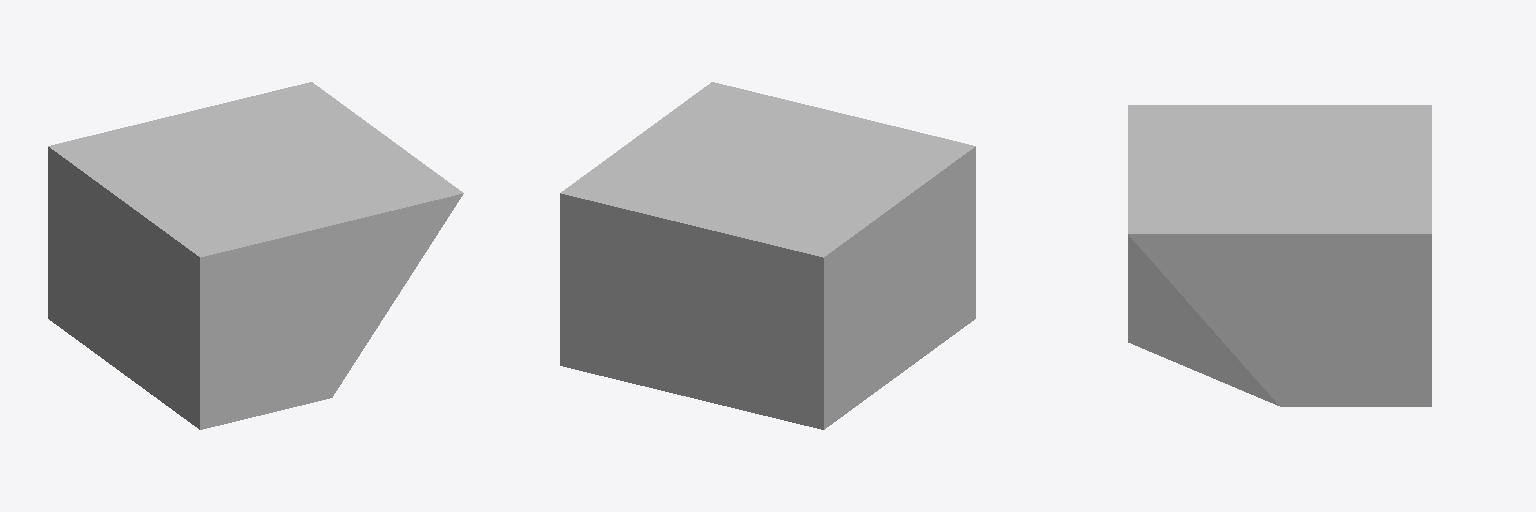
The model's file is building-corner-bottom.obj.
3 views of the same model, side by side, from view 1: azimuth 30°, elevation 25°; view 2: azimuth 150°, elevation 25°; view 3: azimuth 270°, elevation 25° (orthographic).
Visible parts, largest first — view 1: building-corner-bottom; view 2: building-corner-bottom; view 3: building-corner-bottom.
Boxes of the visible parts, x1,y1,x2,y2 form: building-corner-bottom: [48, 82, 463, 429]; building-corner-bottom: [560, 82, 975, 429]; building-corner-bottom: [1128, 105, 1431, 406].
Bounding box in the file's own units: 1 × 0.625 × 1.